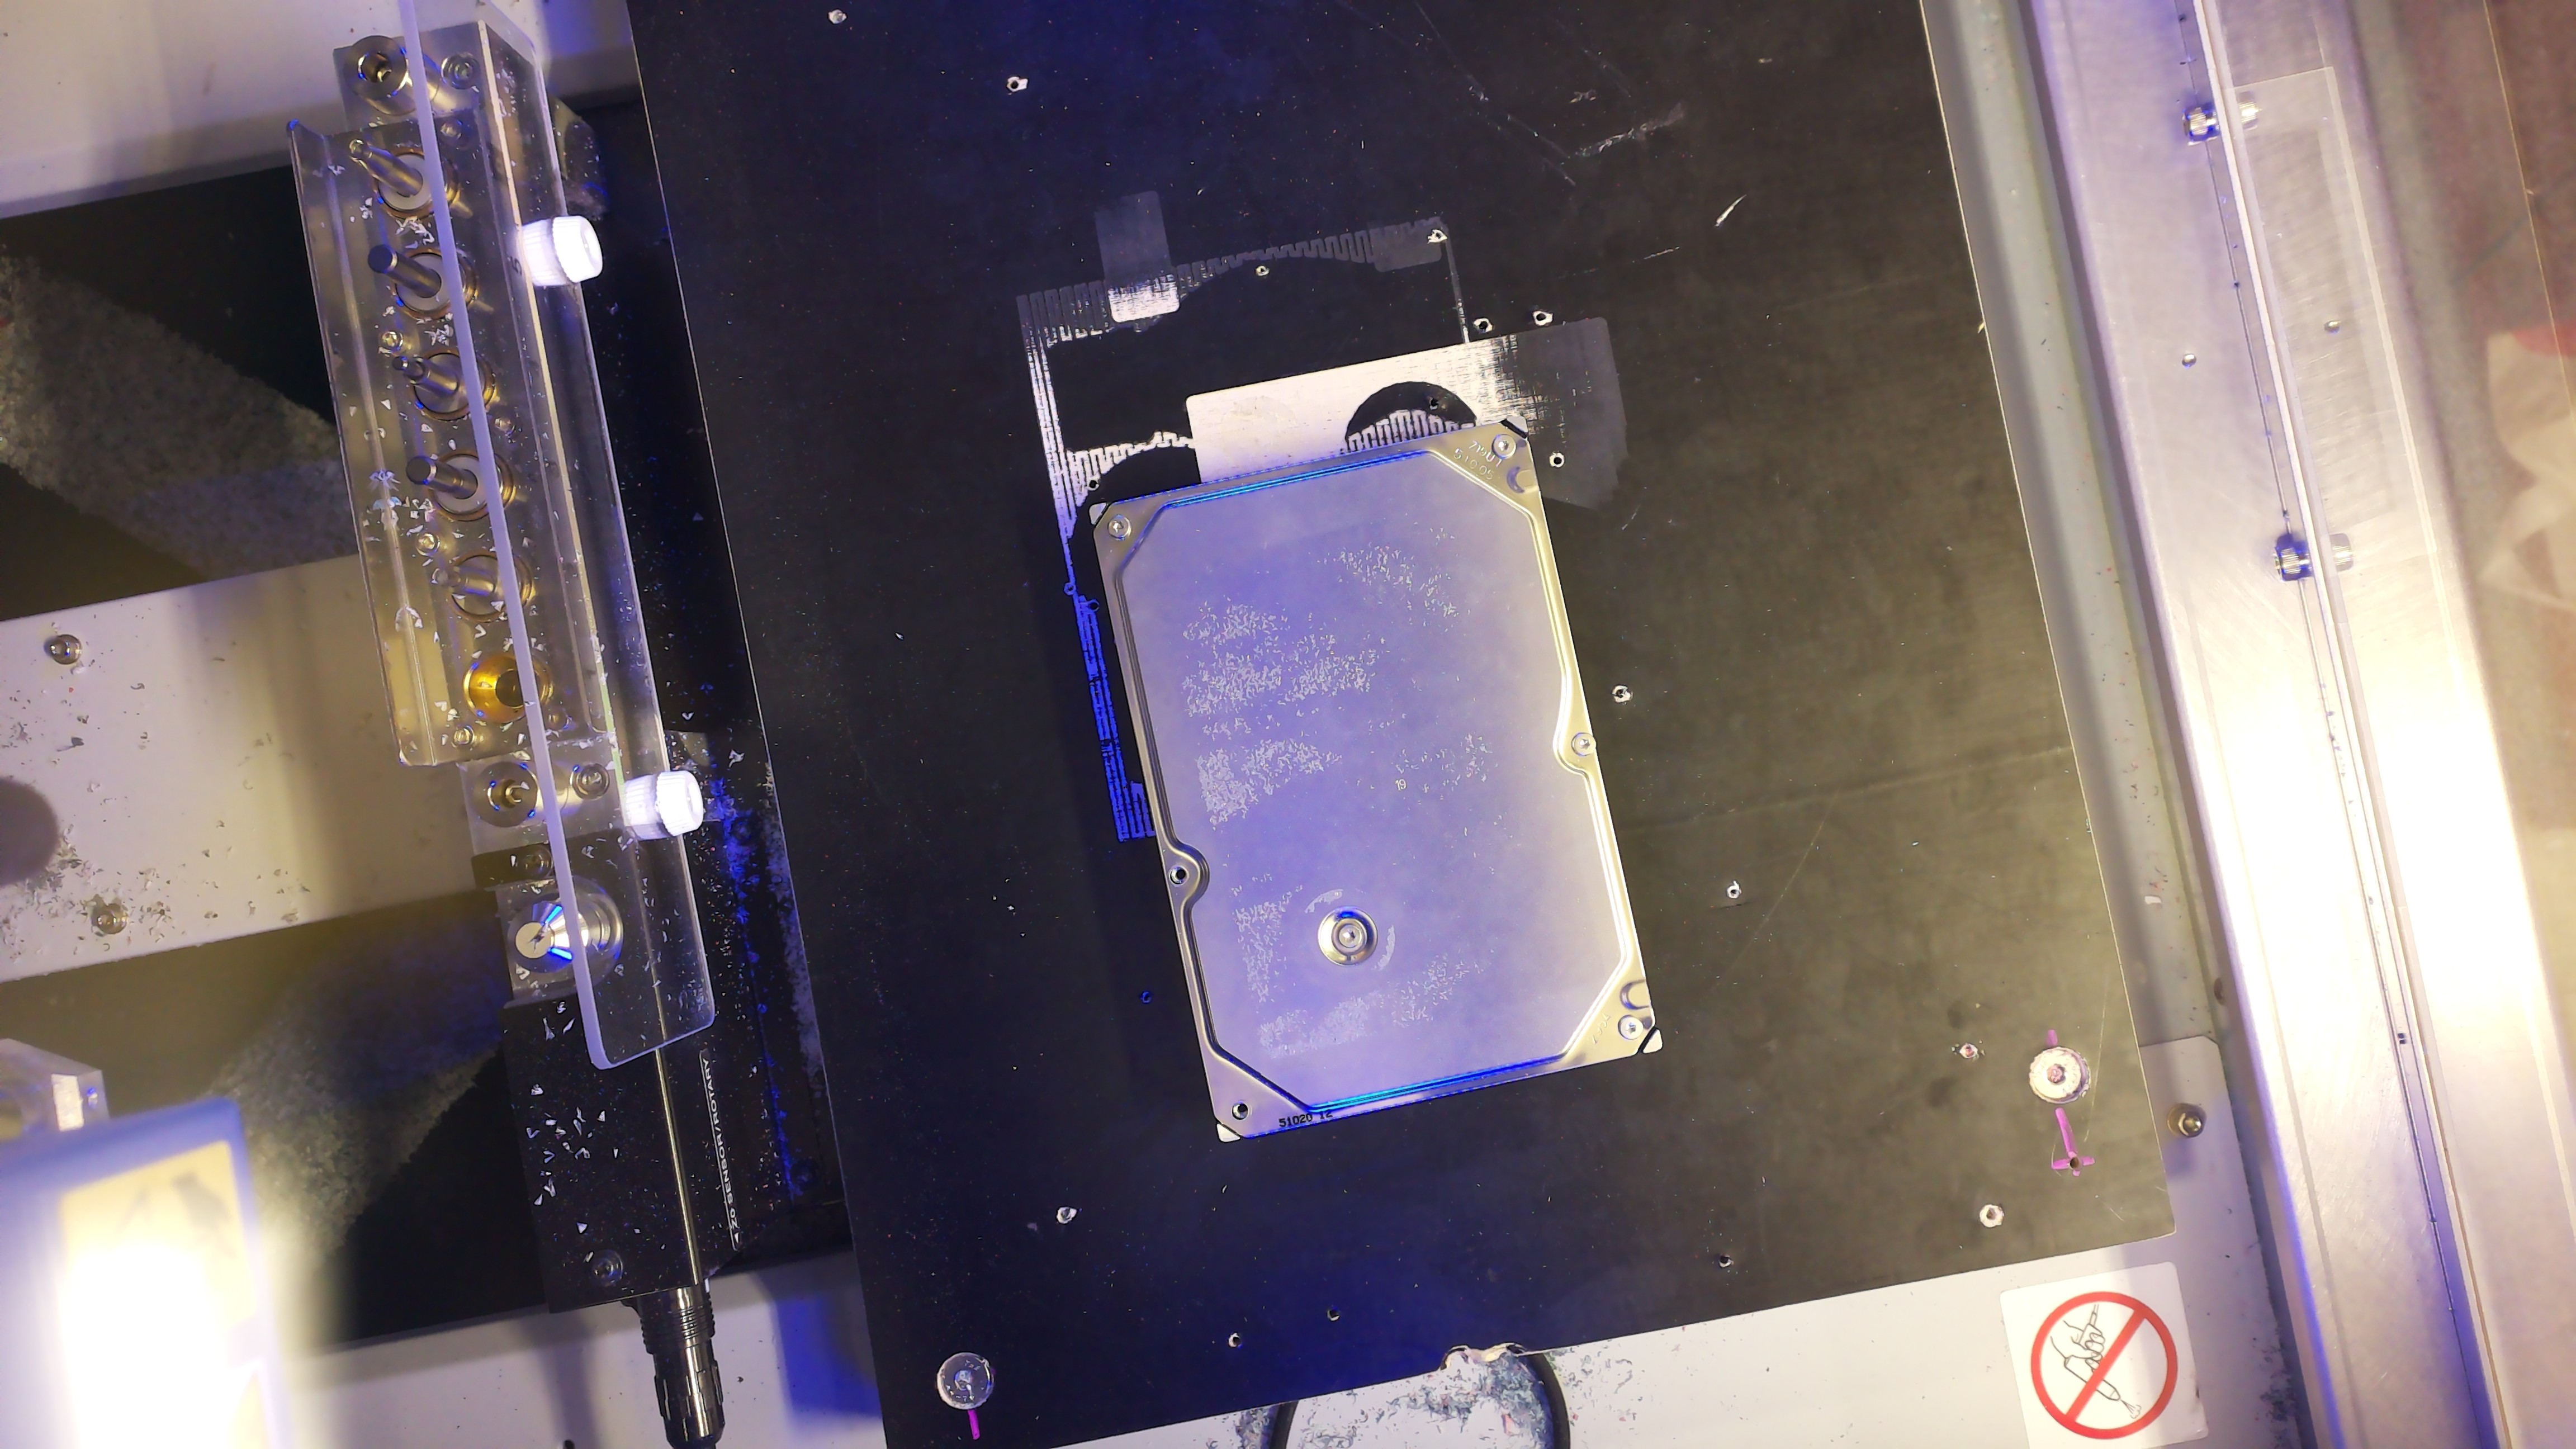Hole: (1168, 863, 1189, 886), (1230, 1100, 1251, 1122)
Screw: (1108, 513, 1132, 540), (1338, 924, 1362, 948), (1491, 433, 1516, 458), (1617, 1016, 1644, 1039), (1571, 732, 1596, 755)
